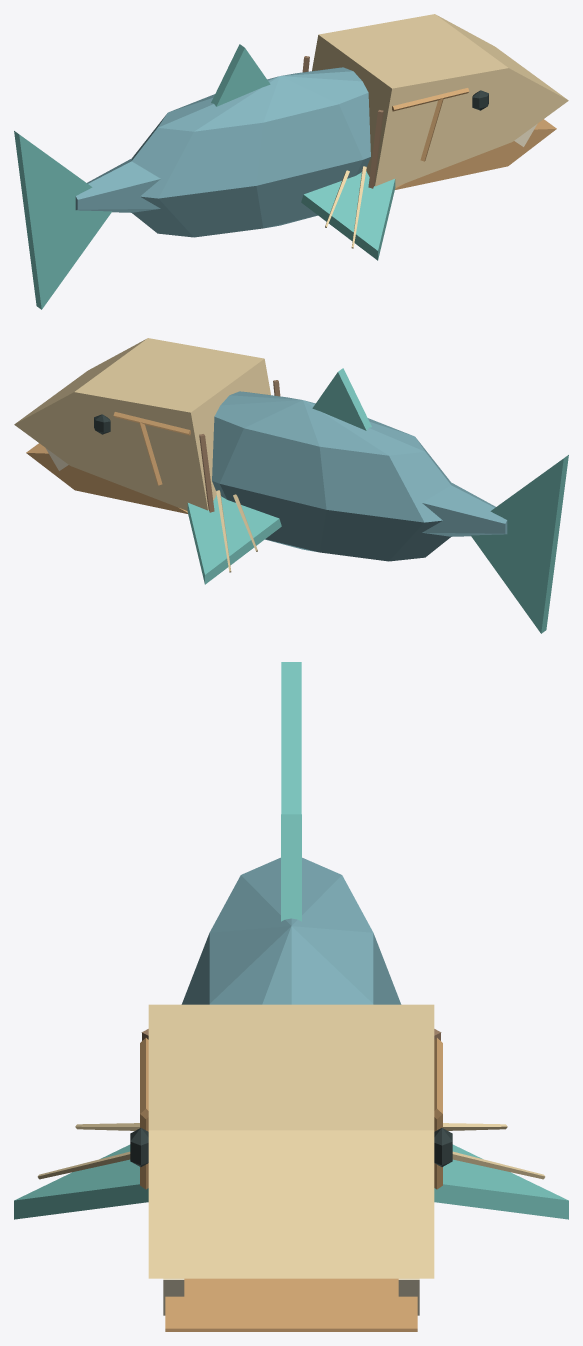
The model's file is dunkleosteus.7bf7ab65bda4.glb.
The picture shows the model from 3 angles, top to bottom: view 1: azimuth 30°, elevation 25°; view 2: azimuth 150°, elevation 25°; view 3: azimuth 270°, elevation 25°; orthographic projection. The views are drawn at different scales.
Visible parts, largest first — view 1: dunkleosteus; view 2: dunkleosteus; view 3: dunkleosteus.
Boxes of the visible parts, x1,y1,x2,y2 form: dunkleosteus: (14,14,568,309); dunkleosteus: (14,338,568,633); dunkleosteus: (14,662,568,1331).
Bounding box in the file's own units: 1 × 0.3942 × 0.4818.
